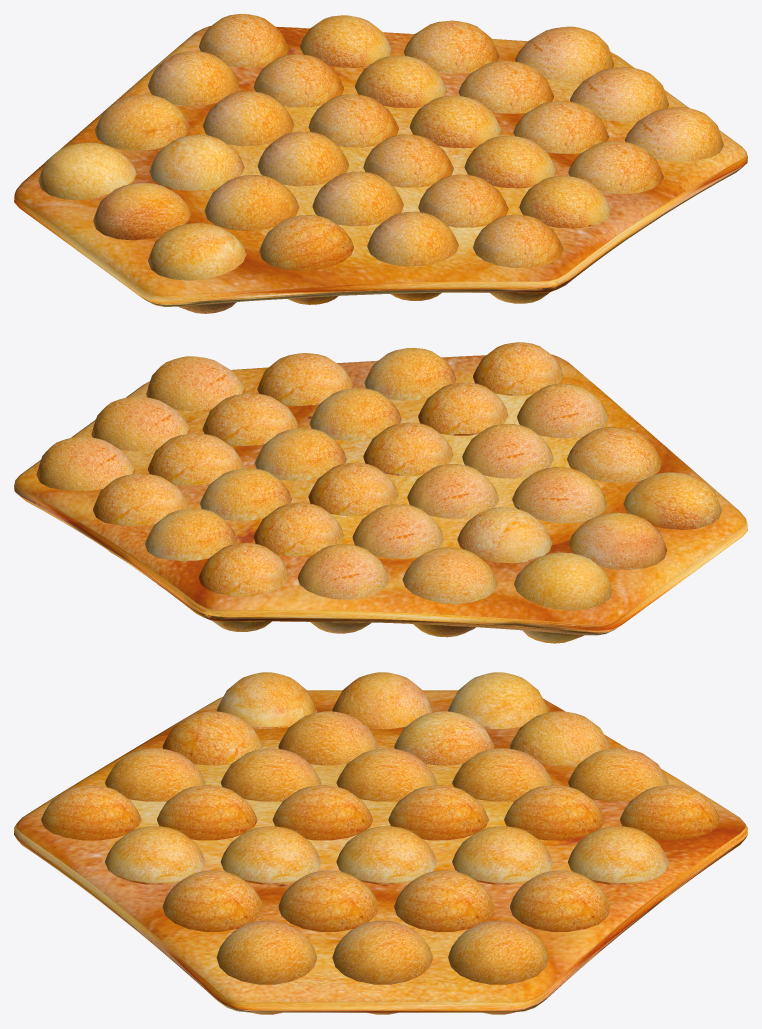
The model's file is eggwaffle1.glb.
3 renders of one model, top to bottom at view 1: azimuth 30°, elevation 25°; view 2: azimuth 150°, elevation 25°; view 3: azimuth 270°, elevation 25°, orthographic. The views are drawn at different scales.
Visible parts, largest first — view 1: Cylinder; view 2: Cylinder; view 3: Cylinder.
Boxes of the visible parts, x1,y1,x2,y2 form: Cylinder: (14,14,747,313); Cylinder: (14,342,747,643); Cylinder: (14,672,747,1014).
Bounding box in the file's own units: 1.94 × 0.2966 × 1.94.
1 material, 1 textured.
